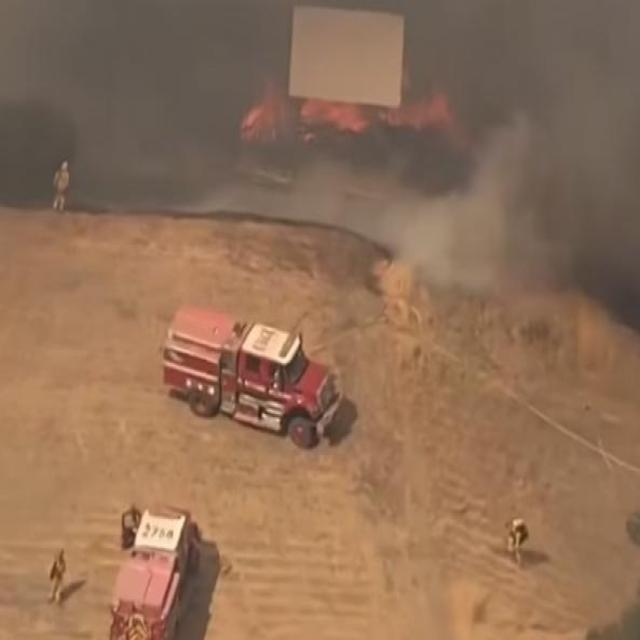Fire: (229, 86, 471, 166)
Smoke: (360, 148, 588, 304)
